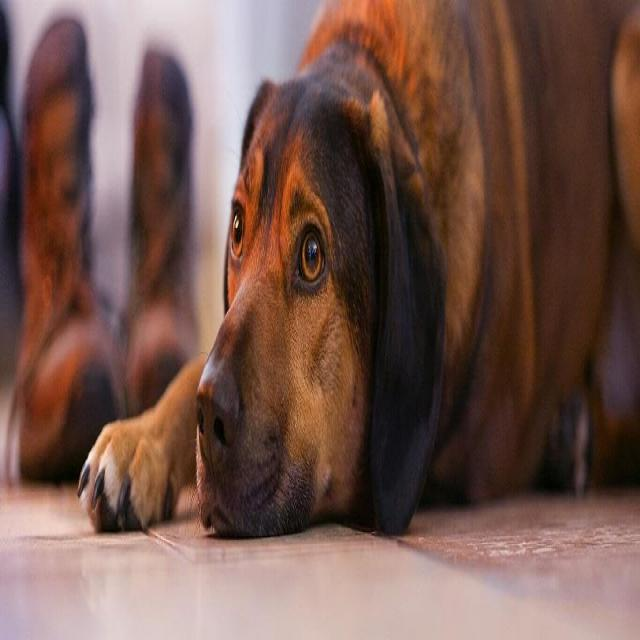eye: (295, 219, 327, 291), (229, 201, 246, 263)
